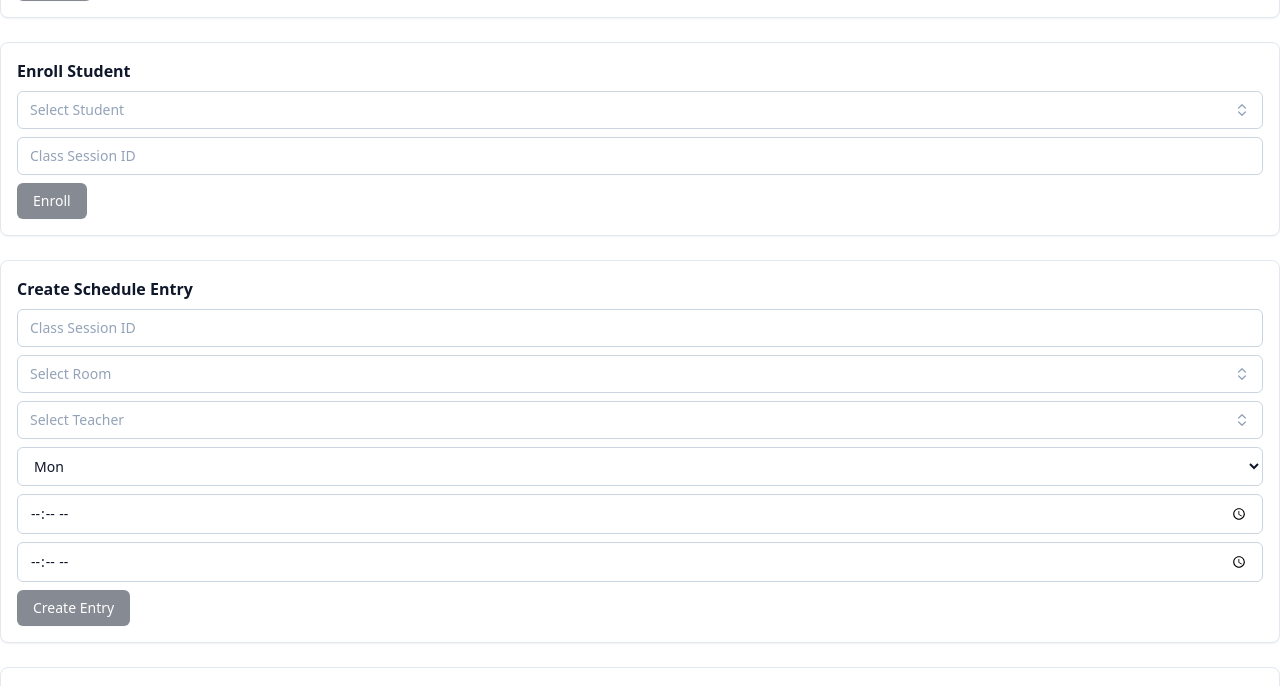
Timetable Admin Schedule Panel › shows a conflict-specific message when creating a schedule entry returns 409
(page scrolled)
Type "cs-999" into the field with placeholder "Class Session ID" below "Create Schedule Entry" at coordinates (640, 328), box x1=17 y1=309 x2=1263 y2=347
Click the button "Select Room" at coordinates (71, 374), box x1=17 y1=355 x2=1263 y2=393
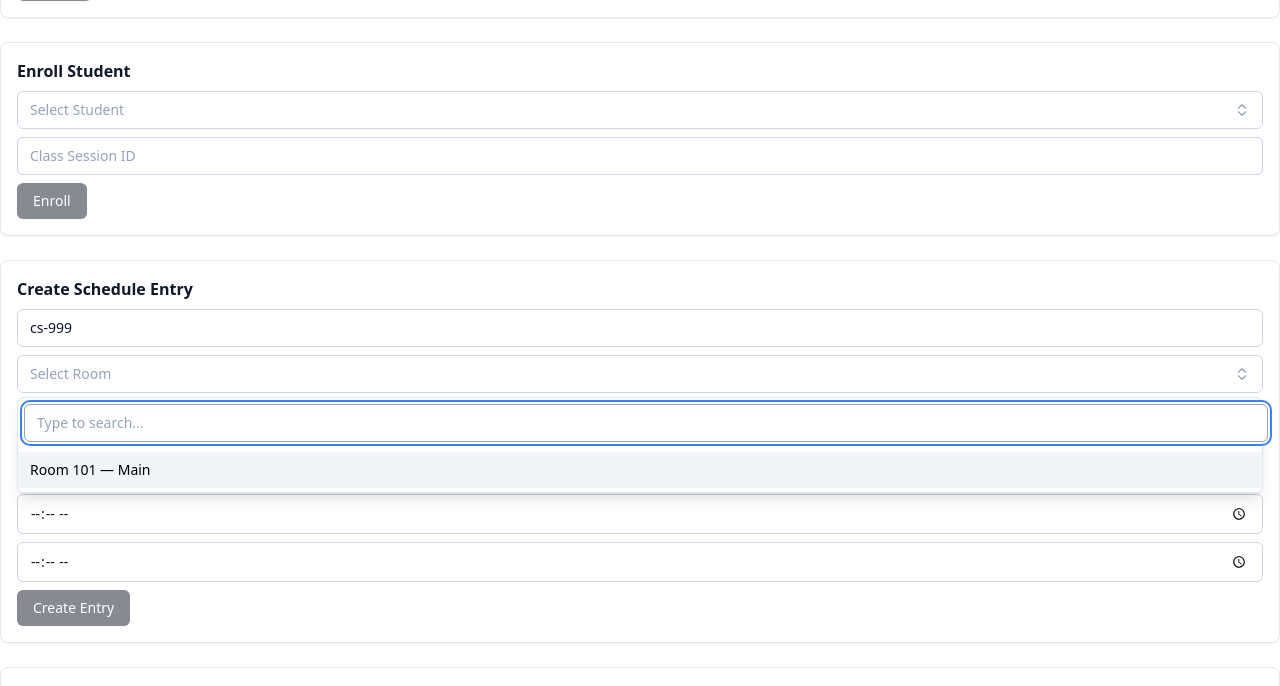
Click the option "Room 101 — Main" at coordinates (90, 470), box x1=18 y1=452 x2=1262 y2=488
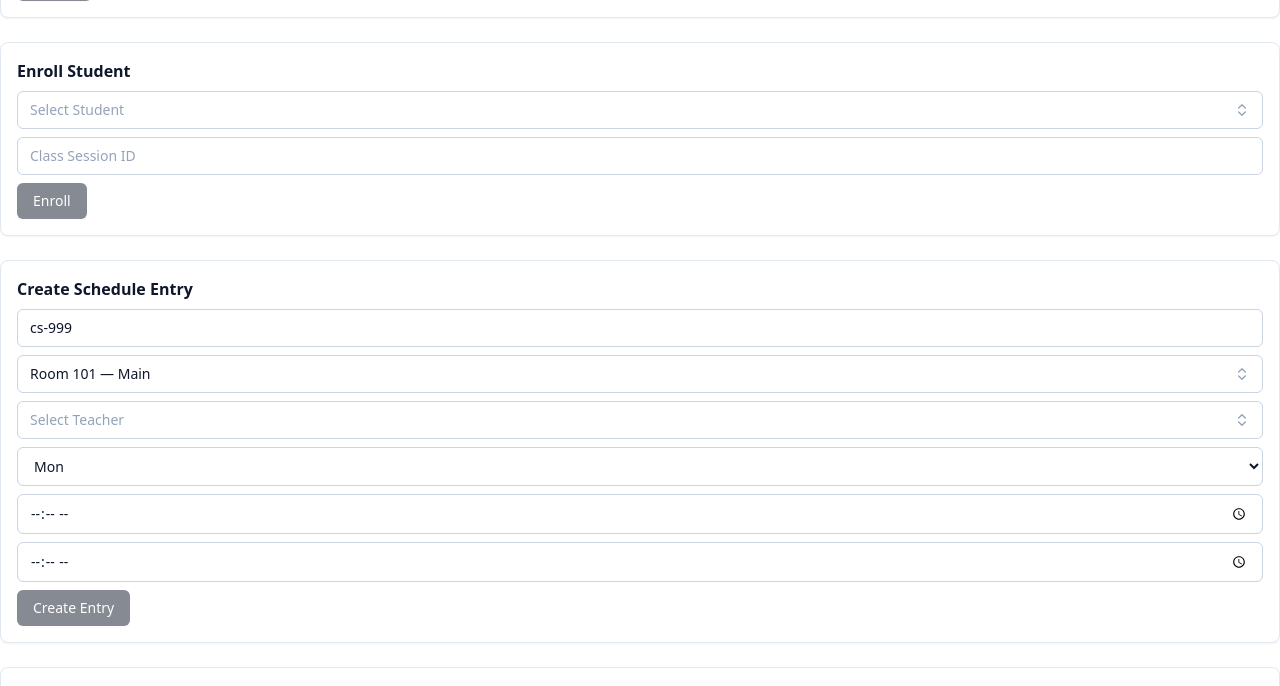
Click the button "Select Teacher" at coordinates (77, 420), box x1=17 y1=401 x2=1263 y2=439
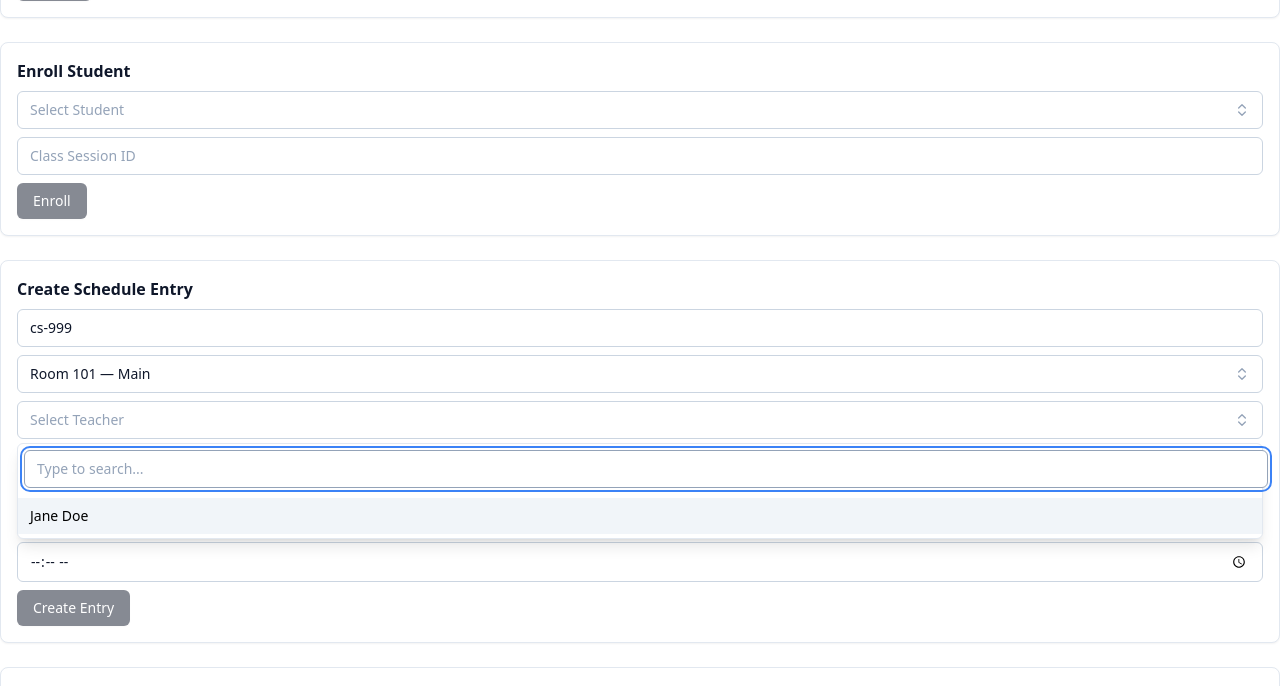
Click the option "Jane Doe" at coordinates (59, 516), box x1=18 y1=498 x2=1262 y2=534
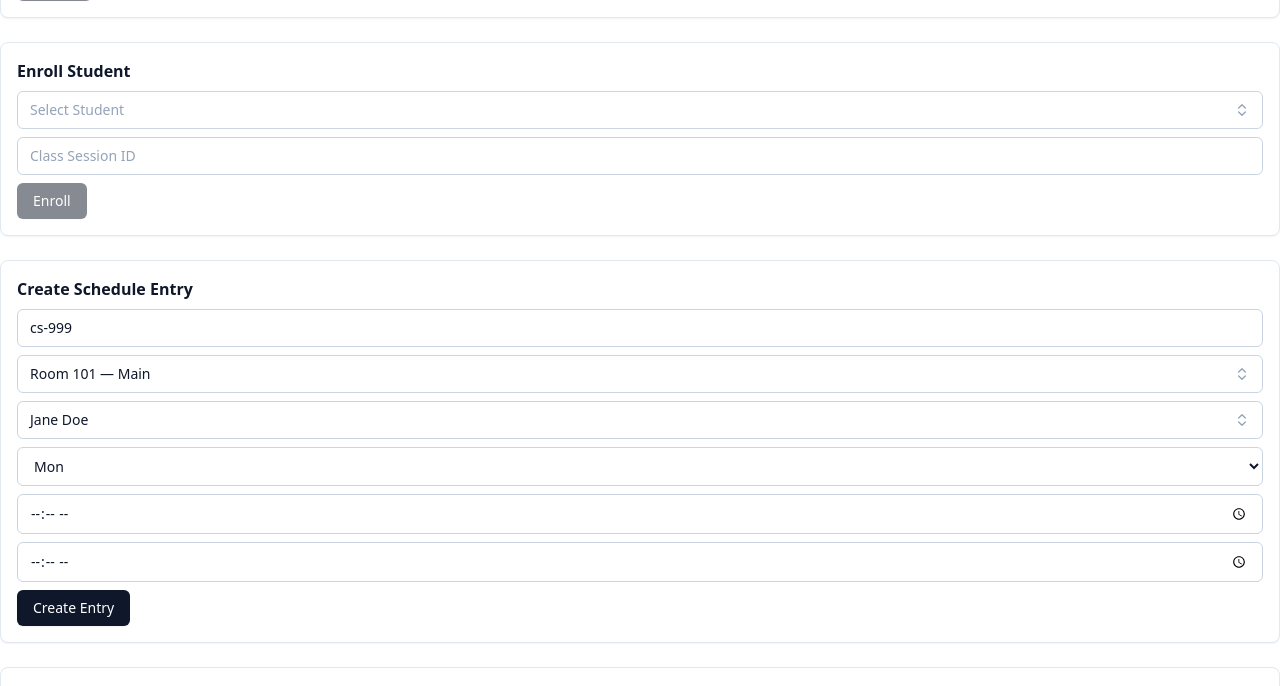
Type "09:00" into the 1st time field at coordinates (640, 514), box x1=17 y1=494 x2=1263 y2=534
Type "10:00" into the 2nd time field at coordinates (640, 562), box x1=17 y1=542 x2=1263 y2=582
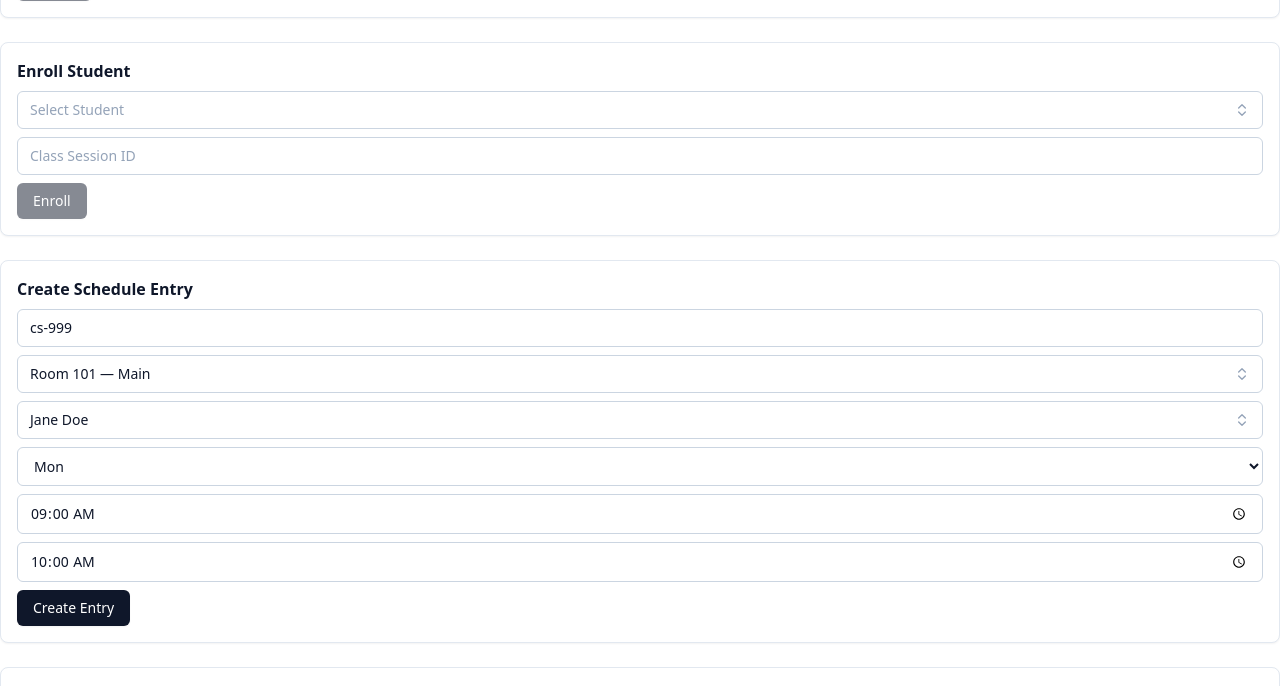
Click the button "Create Entry" at coordinates (74, 608), box x1=17 y1=590 x2=130 y2=626
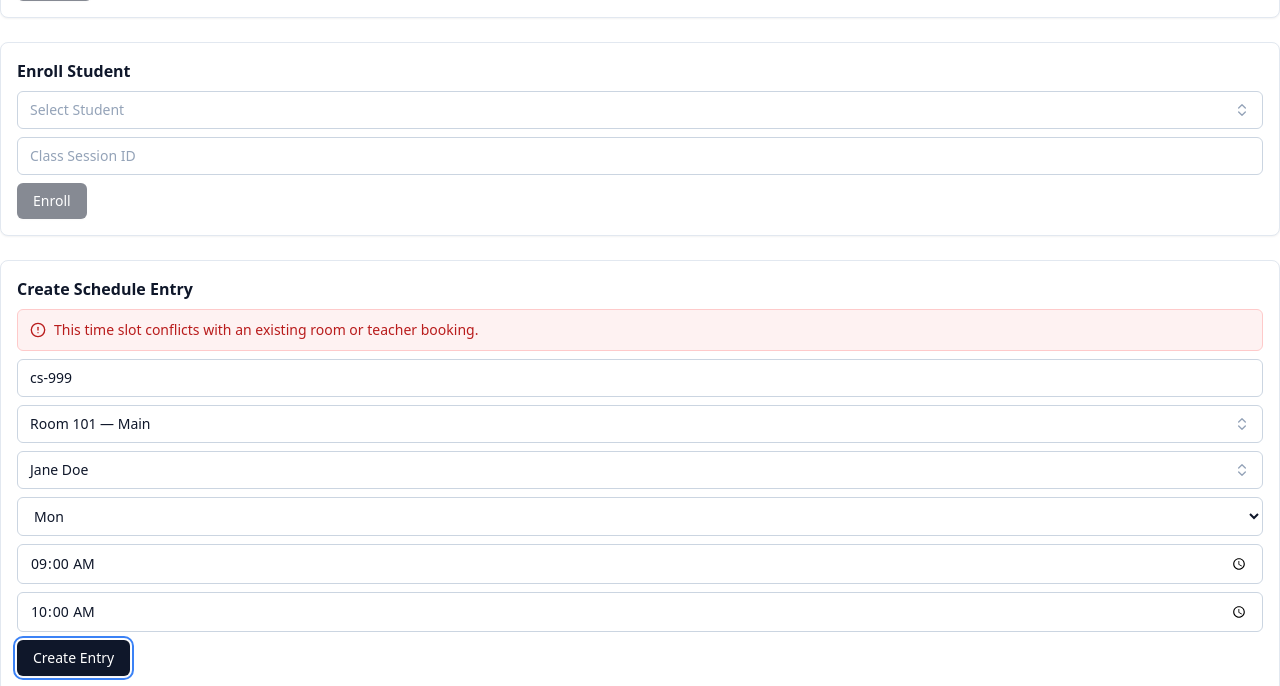
Expected: the text "conflicts with an existing room or teacher booking" is shown, x1=54 y1=320 x2=478 y2=339
